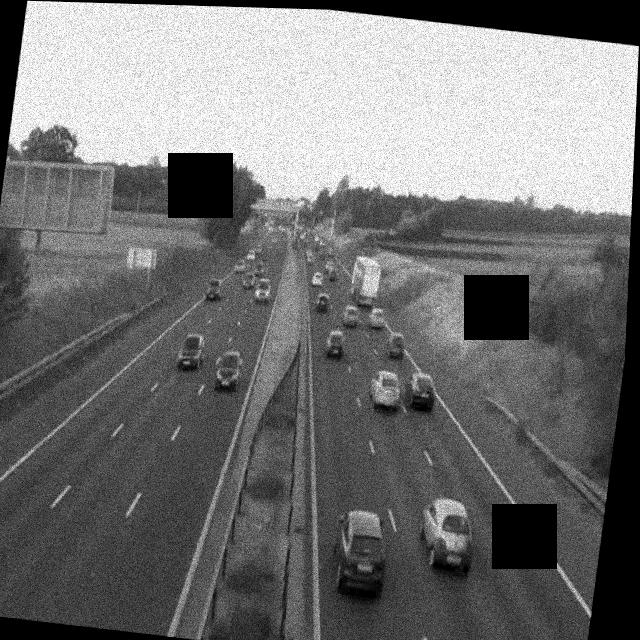car: (327, 507, 392, 597), (414, 495, 479, 574), (402, 370, 439, 411), (368, 367, 403, 410), (176, 331, 207, 371), (214, 350, 243, 391), (384, 330, 409, 359), (323, 327, 345, 359), (204, 276, 222, 300), (254, 277, 271, 302), (367, 309, 387, 330), (314, 290, 331, 312), (343, 307, 361, 327), (241, 271, 256, 290), (310, 271, 323, 288), (234, 255, 246, 273), (327, 265, 339, 282), (304, 252, 314, 265)
truck: (347, 255, 383, 309)
